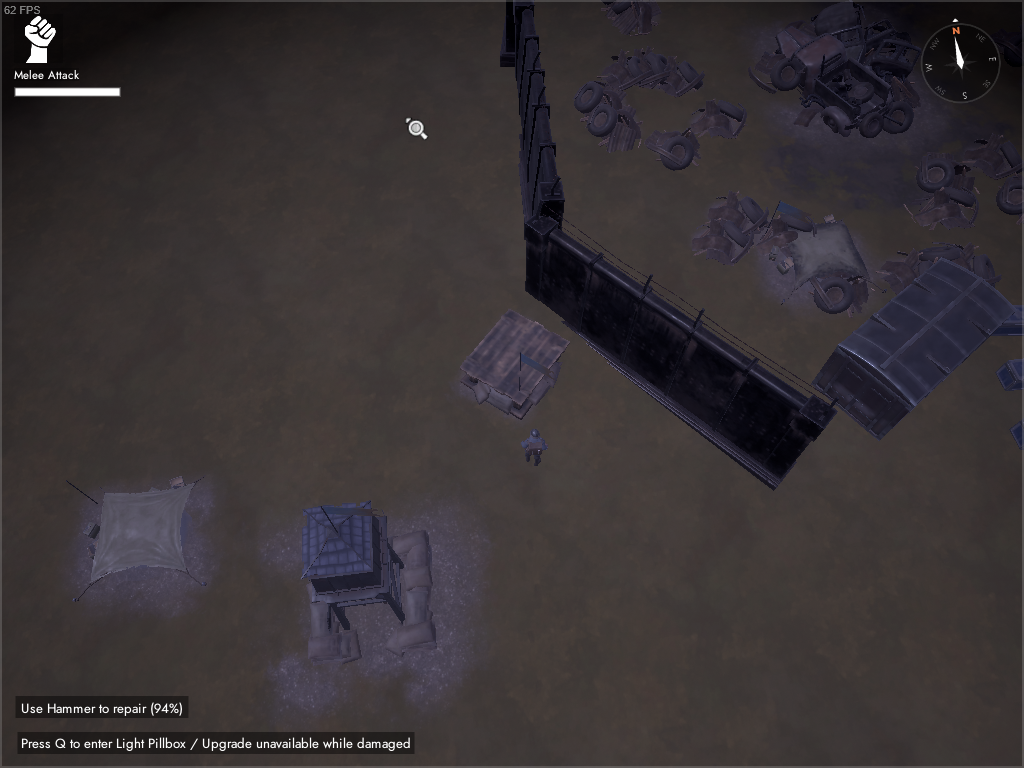container: (809, 254, 1019, 444)
fortified_wall: (523, 200, 840, 492), (512, 3, 565, 242), (500, 1, 524, 66)
foxhole: (60, 474, 216, 606), (746, 205, 892, 322)
pillbox: (456, 307, 573, 420)
player: (519, 427, 548, 468)
scrap: (801, 210, 886, 320), (690, 189, 805, 269), (877, 239, 1001, 310), (903, 148, 985, 233), (608, 46, 705, 100), (976, 124, 1024, 217), (583, 108, 650, 159), (570, 74, 629, 121), (644, 126, 703, 172), (690, 95, 749, 140), (601, 1, 660, 39)
scrapyard: (748, 1, 932, 141)
storage_box: (996, 359, 1024, 392), (1010, 417, 1024, 448)
watchtower: (299, 500, 442, 665)
